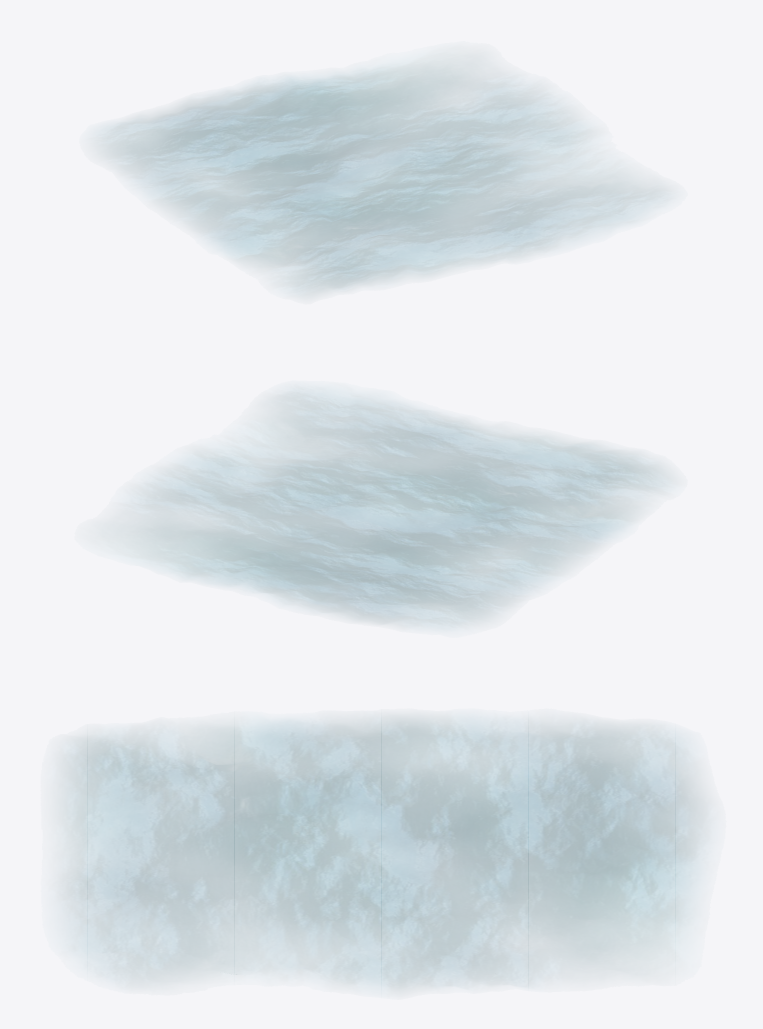
File: water.glb
The picture shows the model from 3 angles, top to bottom: view 1: azimuth 30°, elevation 25°; view 2: azimuth 150°, elevation 25°; view 3: azimuth 270°, elevation 25°; orthographic projection. The views are drawn at different scales.
Parts seen in each view (by area): view 1: Water Export; view 2: Water Export; view 3: Water Export.
Boxes of the visible parts, x1=… form: Water Export: x1=108, y1=67, x2=657, y2=289; Water Export: x1=137, y1=394, x2=659, y2=623; Water Export: x1=69, y1=719, x2=698, y2=986.
Size of the model in its own units: 100 by 3.16 by 100.
Materials: 1 (1 with a texture image).
